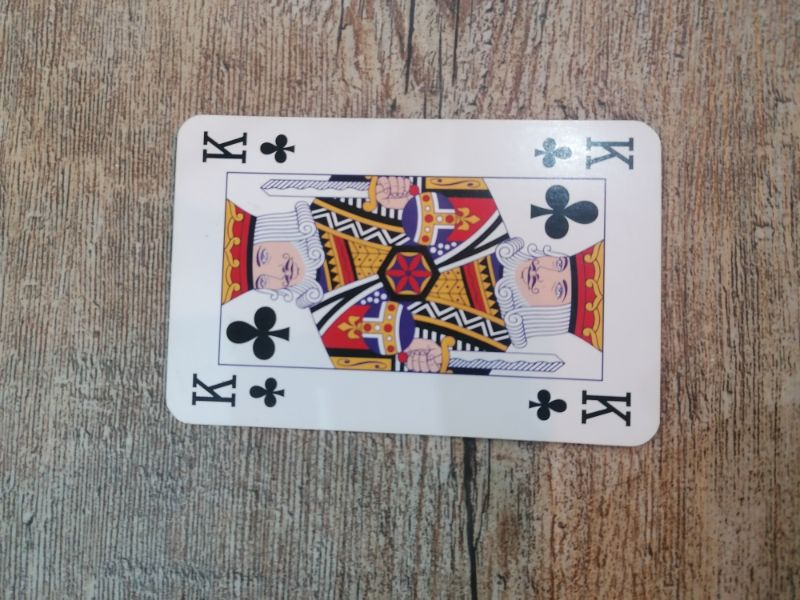Kc: (528, 127, 641, 177), (526, 384, 637, 432), (196, 122, 301, 171), (188, 368, 288, 413)
